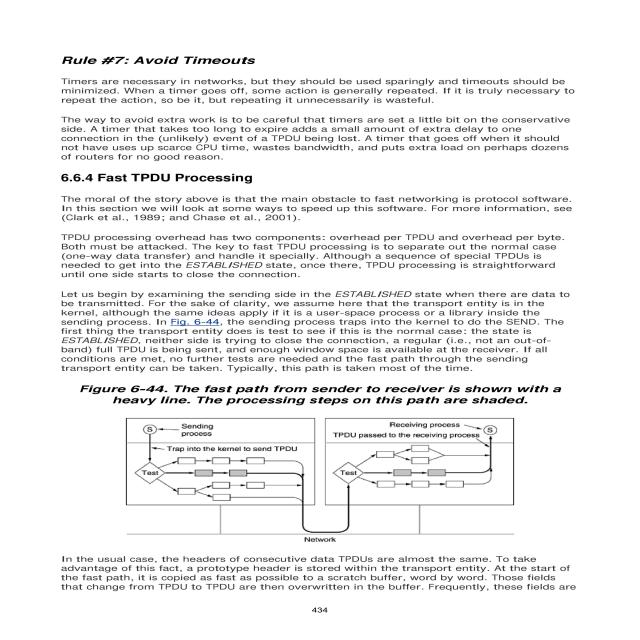diagram: (80, 385, 580, 538)
